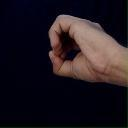hand: (47, 13, 127, 88)
